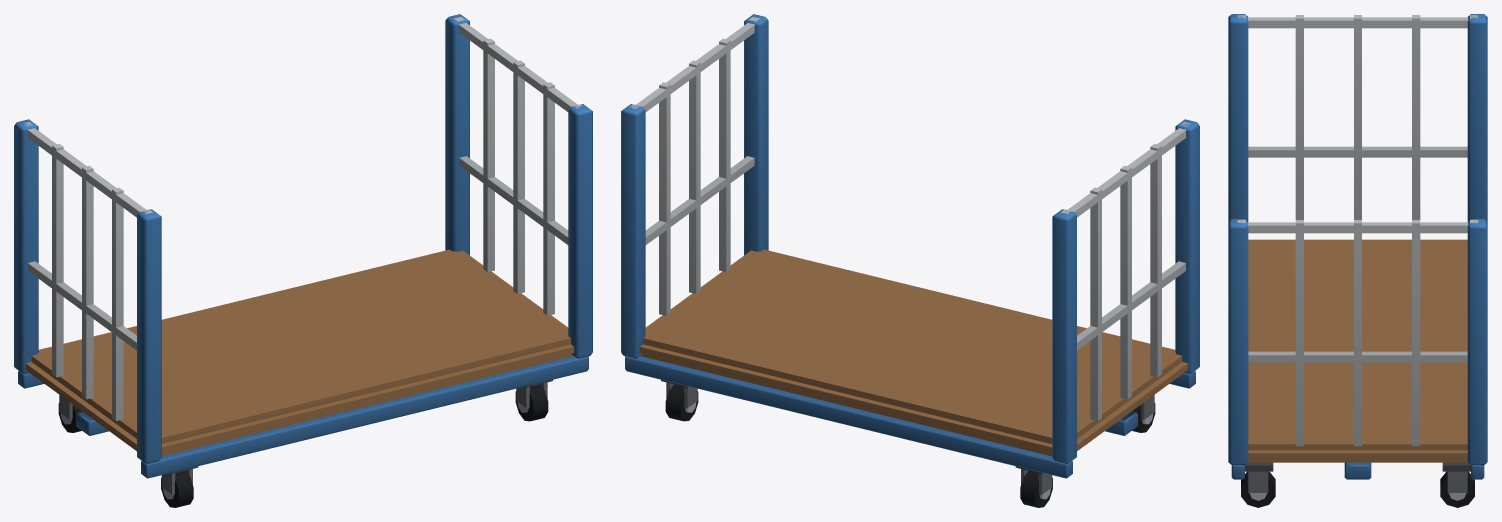
The model's file is FlatCart_15.glb.
3 renders of one model, left to right at view 1: azimuth 30°, elevation 25°; view 2: azimuth 150°, elevation 25°; view 3: azimuth 270°, elevation 25°, orthographic. The views are drawn at different scales.
Parts seen in each view (by area): view 1: SM_FlatCart_15; view 2: SM_FlatCart_15; view 3: SM_FlatCart_15.
Boxes of the visible parts, x1,y1,x2,y2 form: SM_FlatCart_15: [14, 14, 592, 507]; SM_FlatCart_15: [621, 14, 1199, 507]; SM_FlatCart_15: [1228, 14, 1487, 507].
Size of the model in its own units: 1.52 by 1 by 0.78.
1 material, 1 textured.
